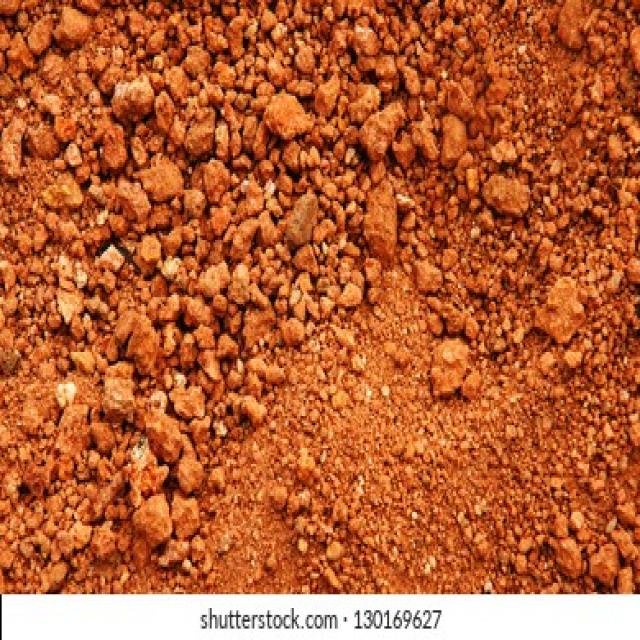Red Soil: (49, 51, 582, 549)
